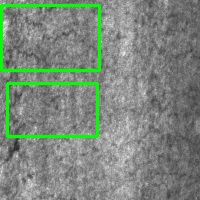crazing: (1, 5, 99, 70), (7, 83, 97, 136)
